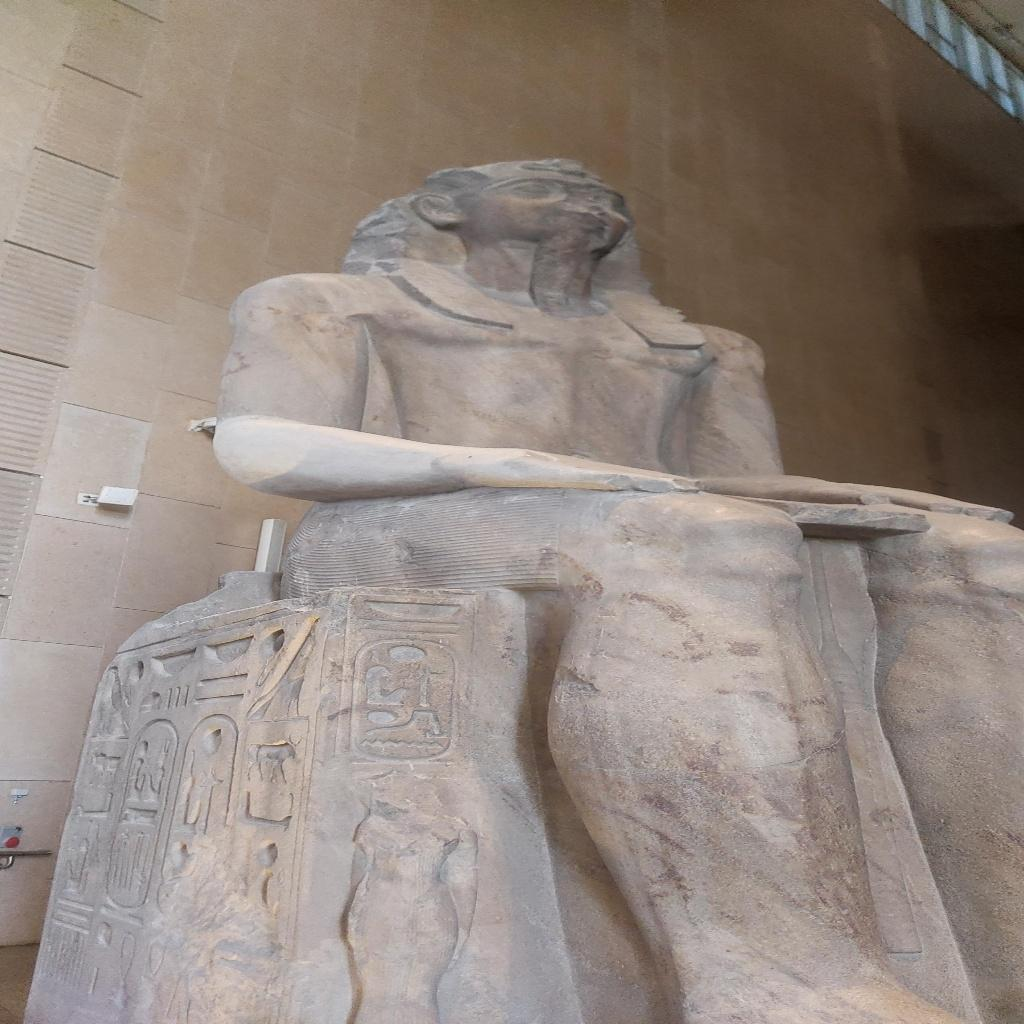Colossal Statue of Middle Kingdom King: (24, 156, 1014, 1020)
